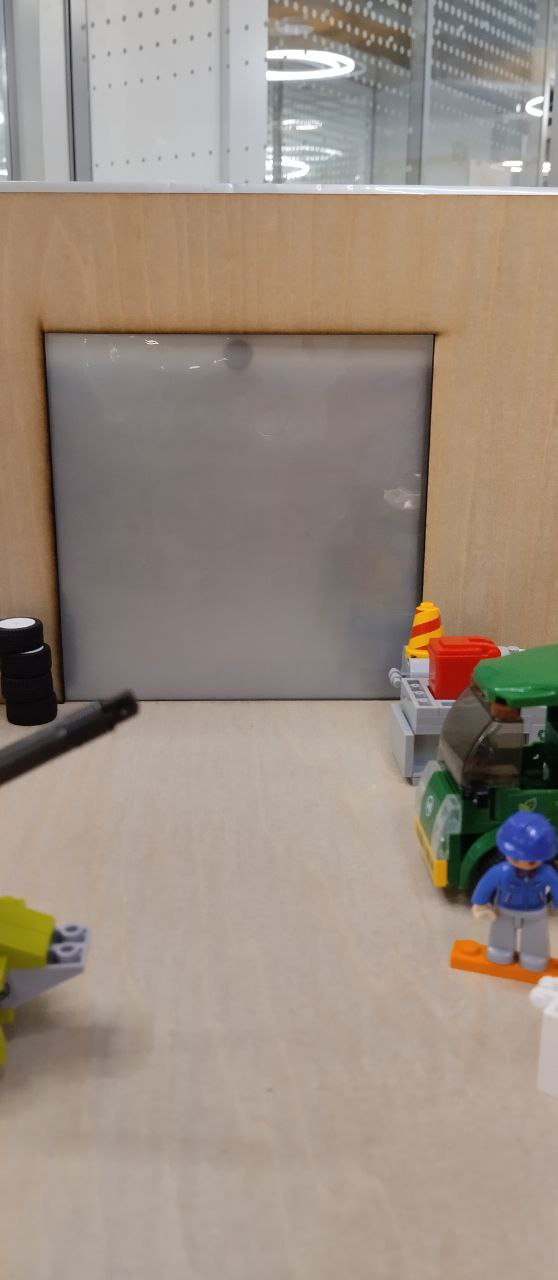Cone: (406, 600, 444, 656)
Object Red: (428, 639, 498, 703)
Truck: (413, 642, 558, 906)
